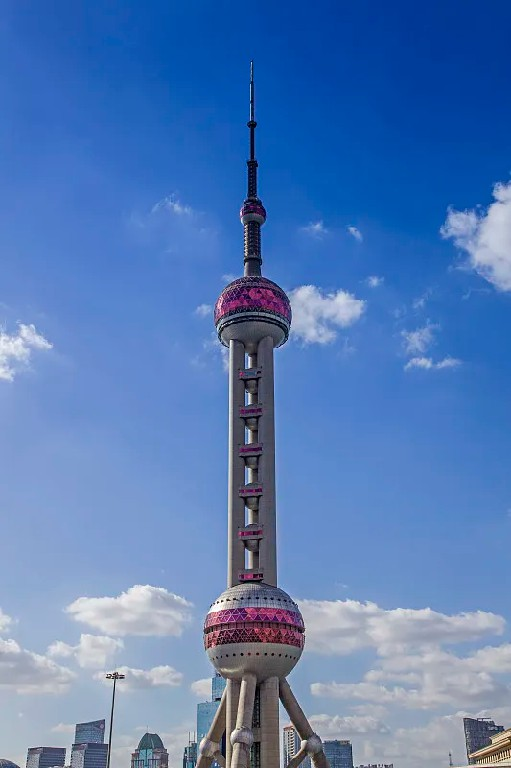Oriental: (195, 64, 324, 766)
